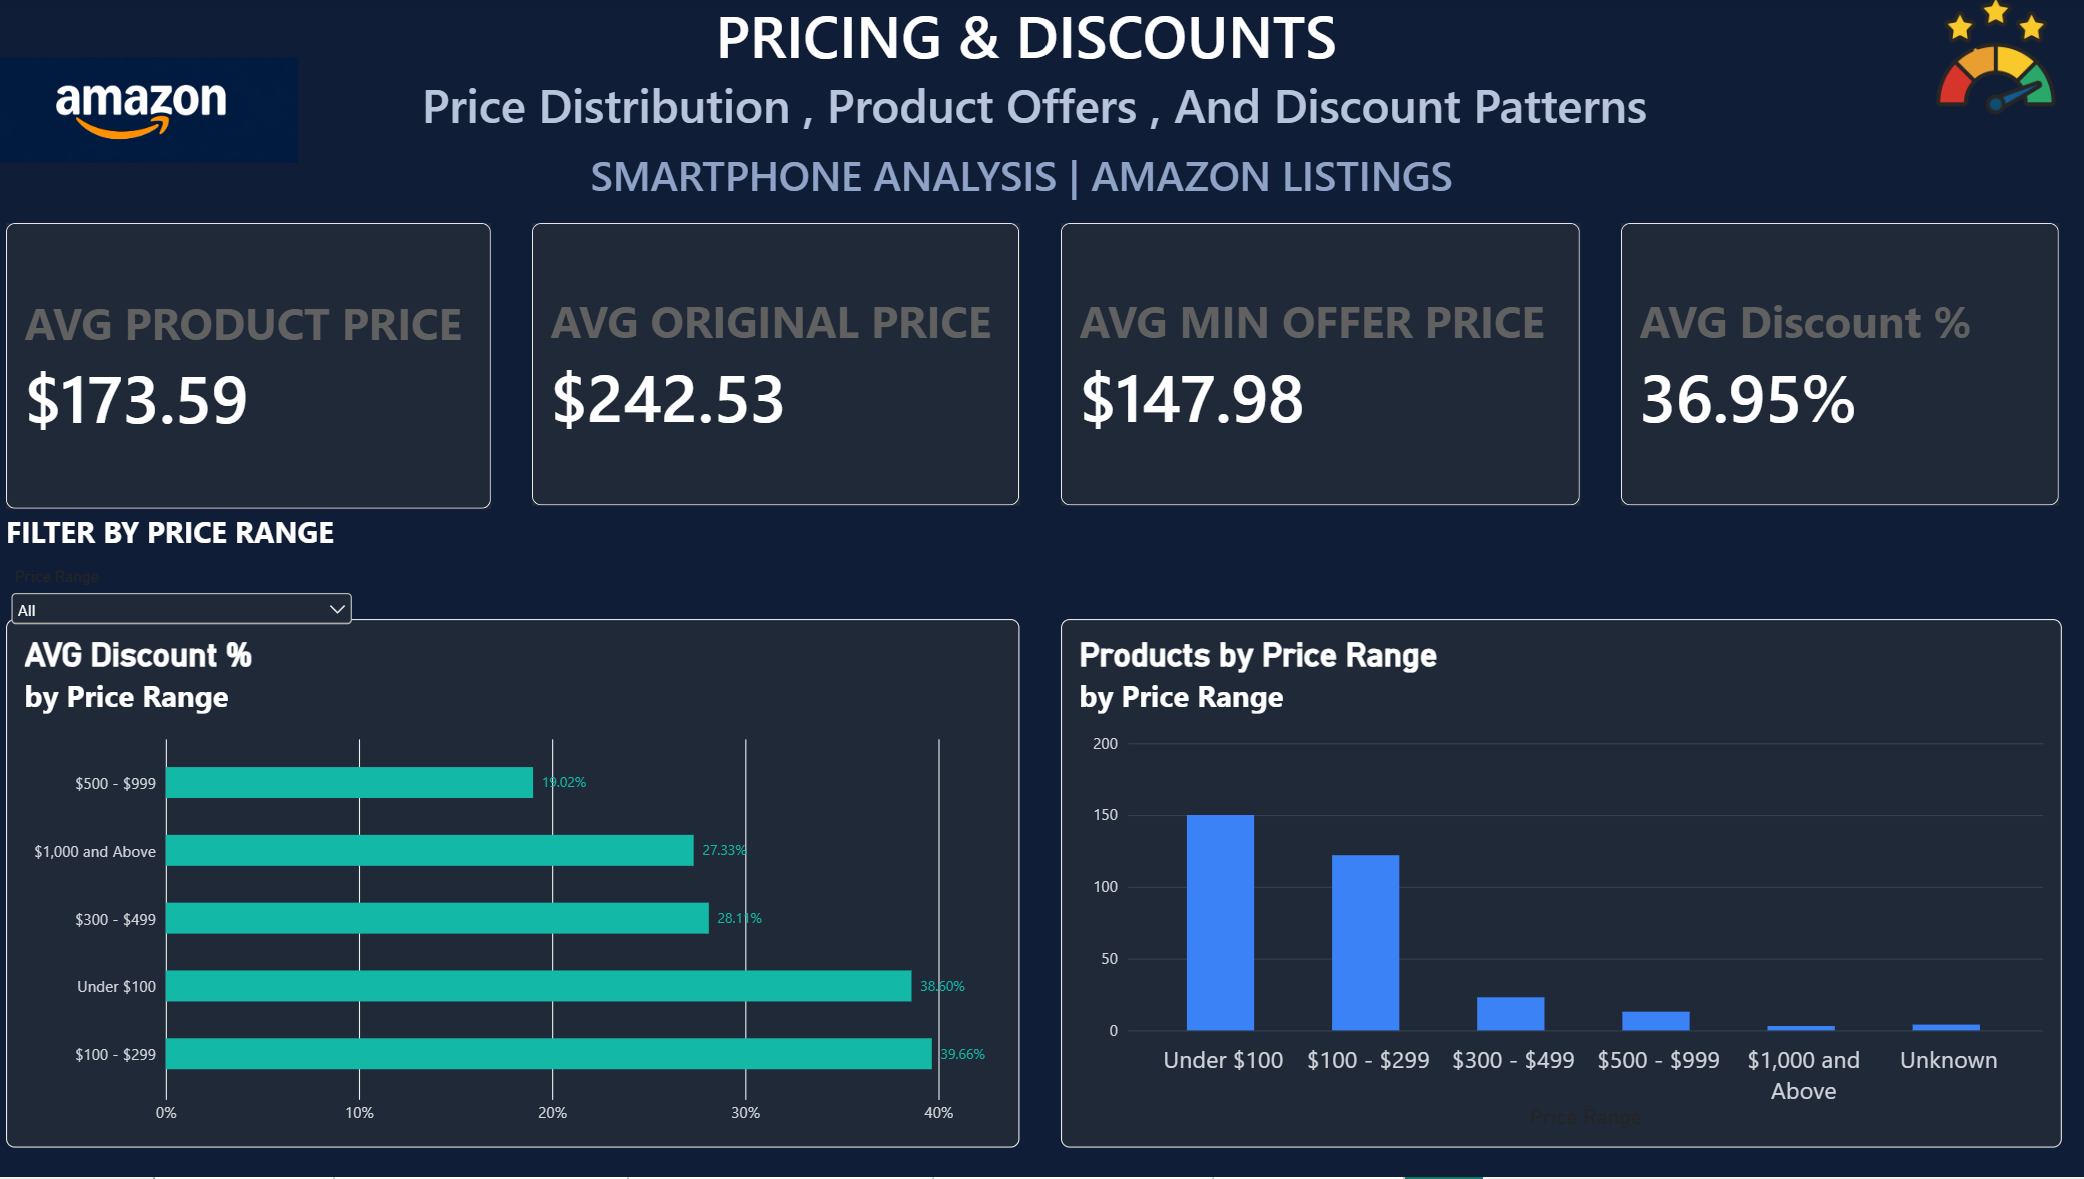

What the dashboard file says about the page in this screenshot:
{"tool":"powerbi","page":{"name":"Pricing & Discounts","canvas":[1920,1080],"ordinal":1},"visuals":[{"type":"cardVisual","fields":{"Data":["MEASURES (2).AVG PRODUCT PRICE"]},"box":[19.9,208.8,443.1,261.3],"z":0},{"type":"cardVisual","fields":{"Data":["MEASURES (2).AVG ORIGINAL PRICE"]},"box":[499.9,208.8,445.9,258.5],"z":1000},{"type":"cardVisual","fields":{"Data":["MEASURES (2).AvG Discount Percentage"]},"box":[1494,208.8,400.5,258.5],"z":2000},{"type":"cardVisual","fields":{"Data":["MEASURES (2).AVG MINIMUM OFFER PRICE"]},"box":[982.7,208.8,474.3,258.5],"z":3000},{"type":"clusteredColumnChart","fields":{"Category":["FactProductRecords.Price Range"],"Y":["MEASURES (2).Products by Price Range"]},"box":[982.7,570.9,914.6,482.8],"z":4000},{"type":"clusteredBarChart","fields":{"Category":["FactProductRecords.Price Range"],"Y":["MEASURES (2).AVG Discount %"]},"box":[19.9,570.9,925.9,482.8],"z":5000},{"type":"slicer","title":"FILTER BY PRICE RANGE ","fields":{"Values":["FactProductRecords.Price Range"]},"box":[19.9,471.5,320.9,105.1],"z":6000},{"type":"textbox","box":[399.1,0,1121.9,261.3],"z":7000},{"type":"image","box":[0,0,287,210],"z":8000},{"type":"image","box":[1753.9,0,166.1,109.2],"z":9000}]}

Visuals, with their boxes in screenshot pixels (x1, y1, x2, y2), scaled from the page's 1920x1080 canvas onto the 2084x1179 screenshot:
cardVisual - MEASURES (2).AVG PRODUCT PRICE: (22,228,503,513)
cardVisual - MEASURES (2).AVG ORIGINAL PRICE: (543,228,1027,510)
cardVisual - MEASURES (2).AvG Discount Percentage: (1622,228,2056,510)
cardVisual - MEASURES (2).AVG MINIMUM OFFER PRICE: (1067,228,1581,510)
clusteredColumnChart - FactProductRecords.Price Range x MEASURES (2).Products by Price Range: (1067,623,2059,1150)
clusteredBarChart - FactProductRecords.Price Range x MEASURES (2).AVG Discount %: (22,623,1027,1150)
"FILTER BY PRICE RANGE " slicer: (22,515,370,629)
textbox: (433,0,1651,285)
image: (0,0,312,229)
image: (1904,0,2083,119)
